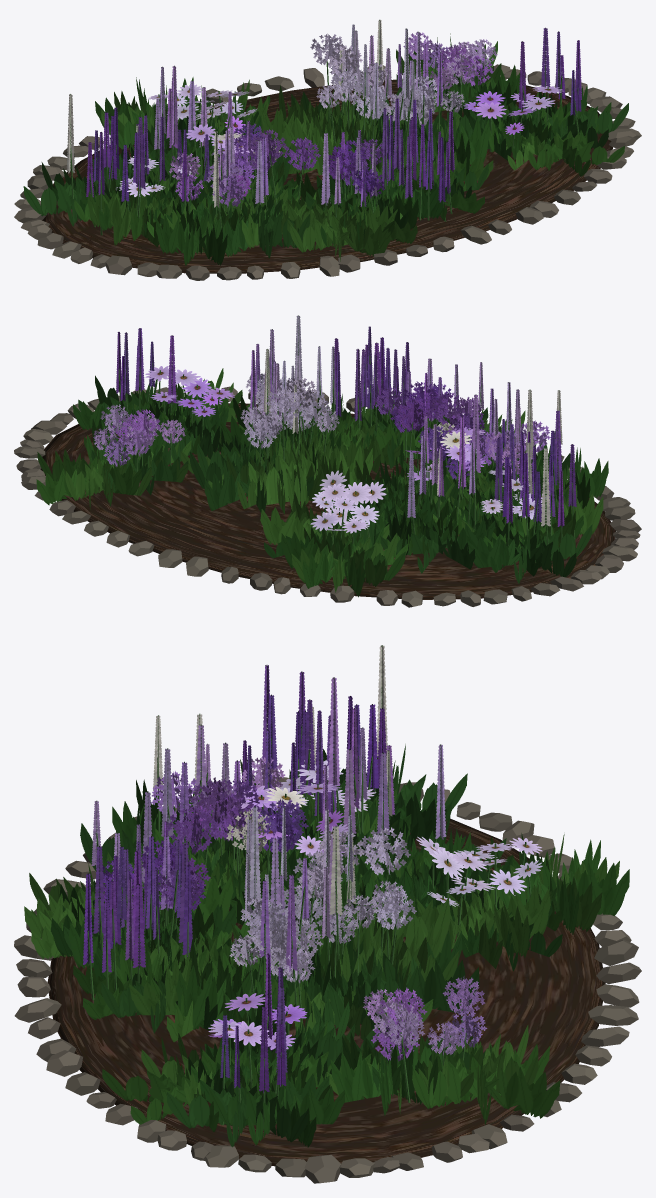
File: flower-bed-2.glb
3 views of the same model, one above another, from view 1: azimuth 30°, elevation 25°; view 2: azimuth 150°, elevation 25°; view 3: azimuth 270°, elevation 25° (orthographic). The views are drawn at different scales.
Parts seen in each view (by area): view 1: flower-bed-2_FlowerFoliage, flower-bed-2_FlowerSpike, flower-bed-2_Mulch, flower-bed-2_FlowerFloret, flower-bed-2_EdgeStone, flower-bed-2_FlowerStem, flower-bed-2_FlowerDaisy; view 2: flower-bed-2_FlowerFoliage, flower-bed-2_Mulch, flower-bed-2_FlowerSpike, flower-bed-2_FlowerFloret, flower-bed-2_EdgeStone, flower-bed-2_FlowerDaisy, flower-bed-2_FlowerStem; view 3: flower-bed-2_FlowerFoliage, flower-bed-2_Mulch, flower-bed-2_FlowerSpike, flower-bed-2_FlowerFloret, flower-bed-2_EdgeStone, flower-bed-2_FlowerDaisy, flower-bed-2_FlowerStem.
Boxes of the visible parts, <box> form: flower-bed-2_FlowerFoliage: <box>23,33,628,265</box>; flower-bed-2_FlowerSpike: <box>66,19,581,207</box>; flower-bed-2_Mulch: <box>42,79,612,273</box>; flower-bed-2_FlowerFloret: <box>169,32,497,207</box>; flower-bed-2_EdgeStone: <box>14,64,641,280</box>; flower-bed-2_FlowerStem: <box>70,47,578,235</box>; flower-bed-2_FlowerDaisy: <box>116,84,563,196</box>; flower-bed-2_FlowerFoliage: <box>36,368,608,597</box>; flower-bed-2_Mulch: <box>40,403,615,599</box>; flower-bed-2_FlowerSpike: <box>116,315,576,527</box>; flower-bed-2_FlowerFloret: <box>93,373,550,480</box>; flower-bed-2_EdgeStone: <box>14,386,641,607</box>; flower-bed-2_FlowerDaisy: <box>145,366,546,533</box>; flower-bed-2_FlowerStem: <box>105,356,575,550</box>; flower-bed-2_FlowerFoliage: <box>24,744,629,1147</box>; flower-bed-2_Mulch: <box>47,818,605,1166</box>; flower-bed-2_FlowerSpike: <box>83,645,446,1093</box>; flower-bed-2_FlowerFloret: <box>98,757,487,1061</box>; flower-bed-2_EdgeStone: <box>14,777,641,1183</box>; flower-bed-2_FlowerDaisy: <box>208,760,542,1049</box>; flower-bed-2_FlowerStem: <box>87,725,531,1130</box>.
Size of the model in its own units: 3.57 by 0.9286 by 2.36.
7 materials, 5 textured.
